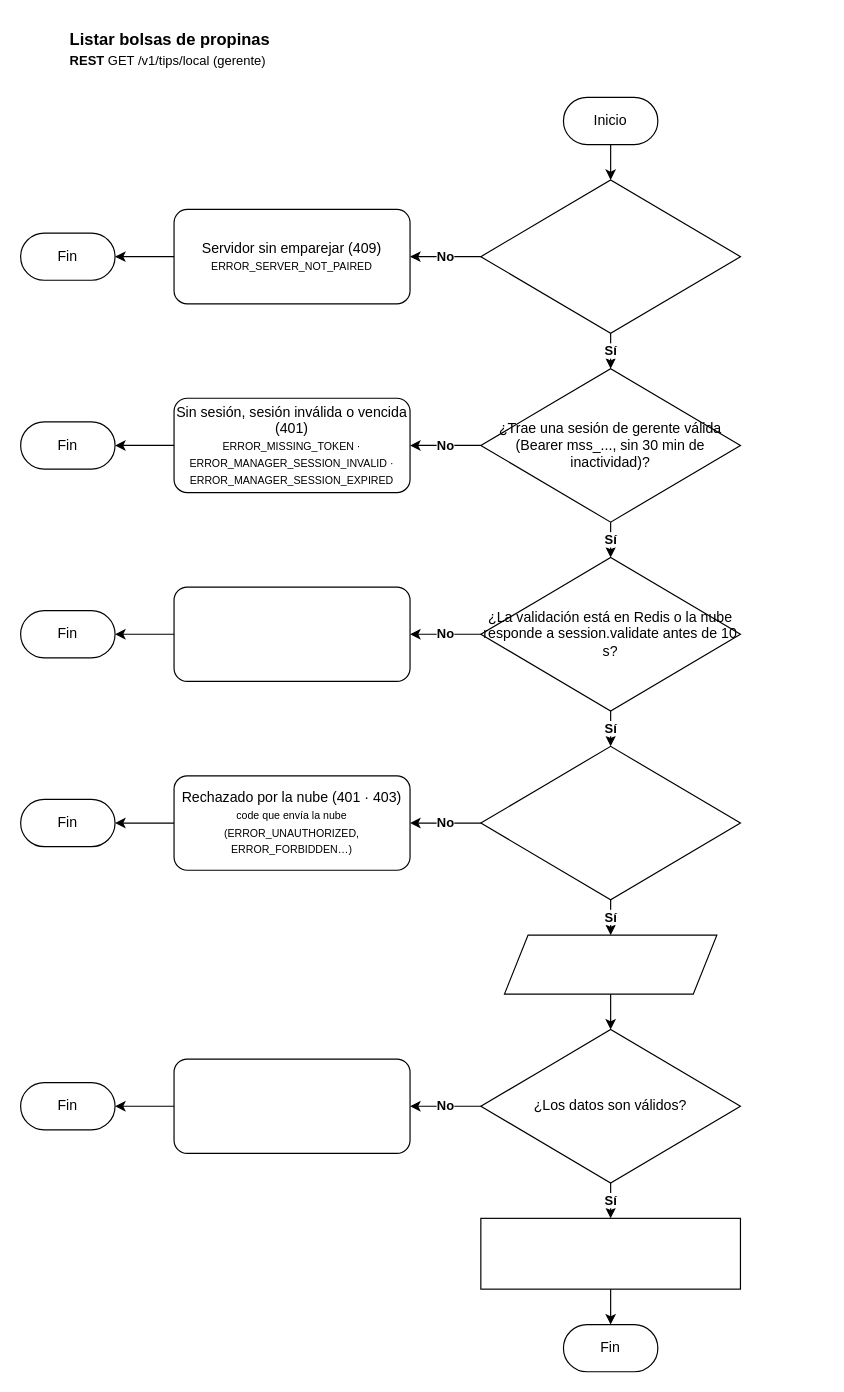
The diagram is 844 pixels wide and 1392 high, and some of its shapes have lost their labels. The shapes that lost their labels are listed below. From the top down, each one's centre as x and y in pixels, then its label:
the point at 610,256: ¿El servidor ya se emparejó alguna vez (pairing_status distinto de unpaired)?
the point at 291,633: La nube no responde (503) ERROR_CLOUD_UNAVAILABLE · ERROR_SERVER_UNLINKED
the point at 610,822: ¿La nube acepta la sesión del gerente con este servidor?
the point at 610,964: Recibir datos
the point at 291,1105: Datos inválidos (400) ERROR_BAD_REQUEST
the point at 610,1253: Responder 200 con el mensaje POOLS_RETRIEVED
